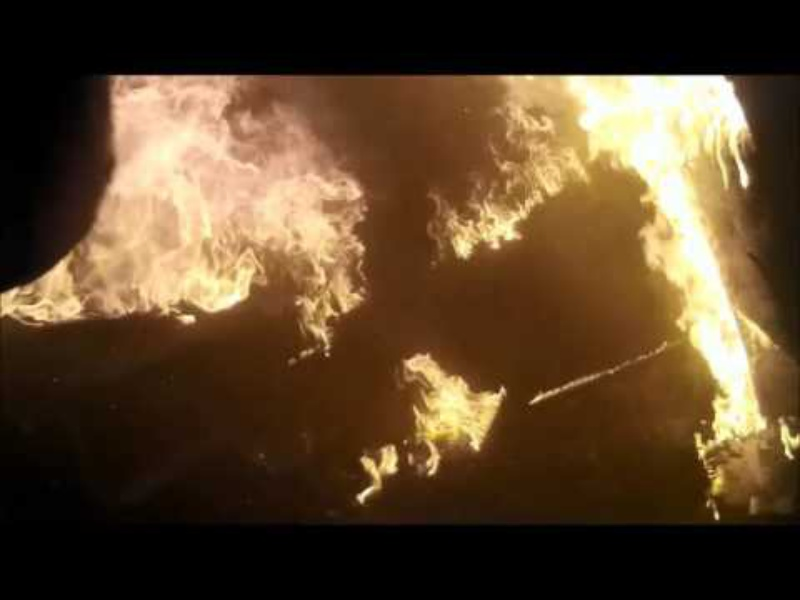fire: (103, 80, 371, 301), (652, 205, 776, 432), (421, 90, 567, 261), (573, 82, 769, 197), (405, 357, 507, 461), (292, 305, 341, 356), (351, 448, 398, 480)
